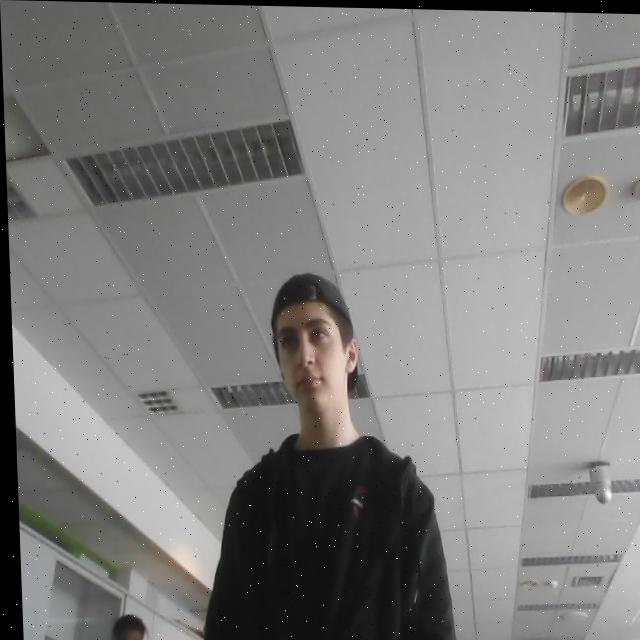opened_eye: (309, 327, 330, 341), (281, 335, 299, 350)
